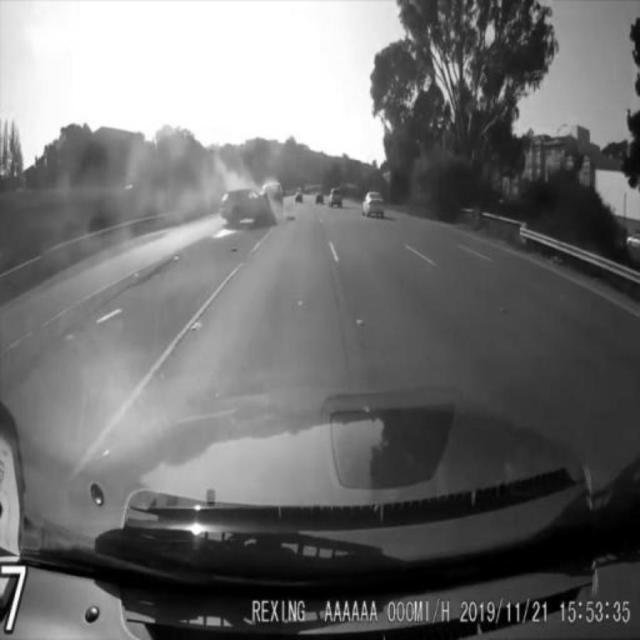accident: (215, 178, 288, 230)
vehicle: (359, 187, 389, 221), (325, 184, 349, 212)
